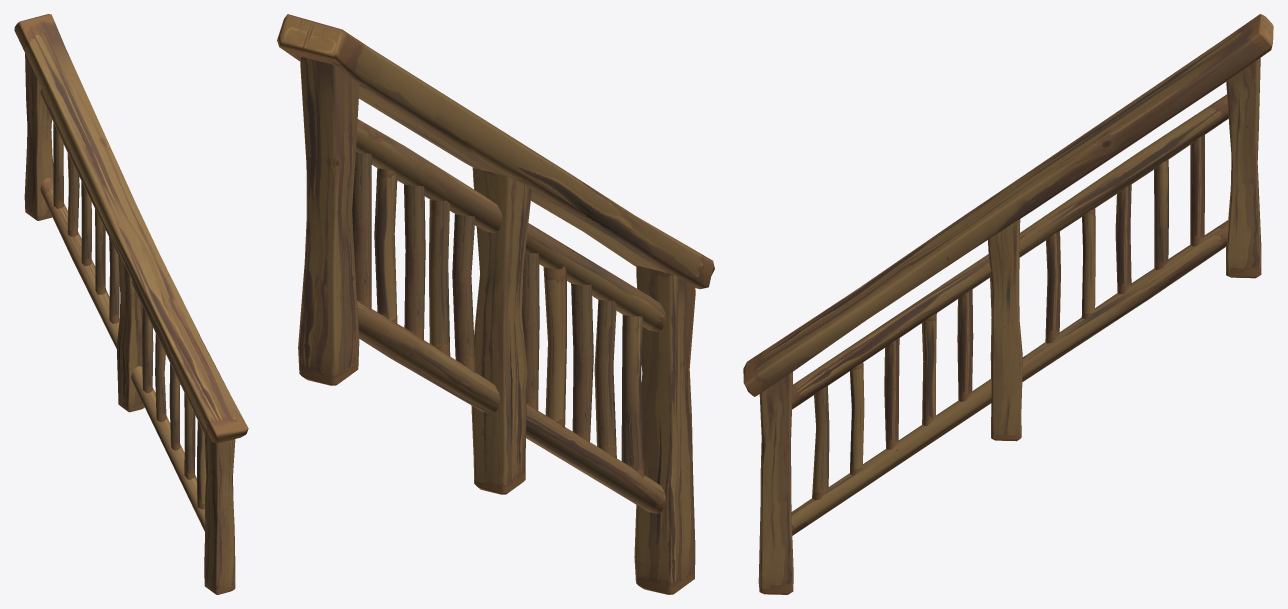
Rendered from SM_MOD_railing_town_02_01.fbx.
3 renders of one model, left to right at view 1: azimuth 30°, elevation 25°; view 2: azimuth 150°, elevation 25°; view 3: azimuth 270°, elevation 25°, orthographic. The views are drawn at different scales.
Visible parts, largest first — view 1: SM_MOD_railing_town_02_01_LOD0; view 2: SM_MOD_railing_town_02_01_LOD0; view 3: SM_MOD_railing_town_02_01_LOD0.
Boxes of the visible parts, x1,y1,x2,y2 form: SM_MOD_railing_town_02_01_LOD0: (14,14,248,594); SM_MOD_railing_town_02_01_LOD0: (277,14,714,594); SM_MOD_railing_town_02_01_LOD0: (743,14,1273,594).
Size of what is drawn, in the model's own units: 20.24 by 241 by 204.
